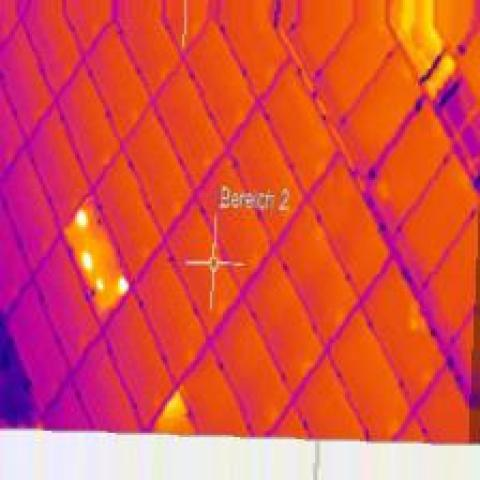fault: (111, 270, 135, 300), (71, 202, 94, 232), (75, 246, 94, 276), (90, 274, 105, 294)
